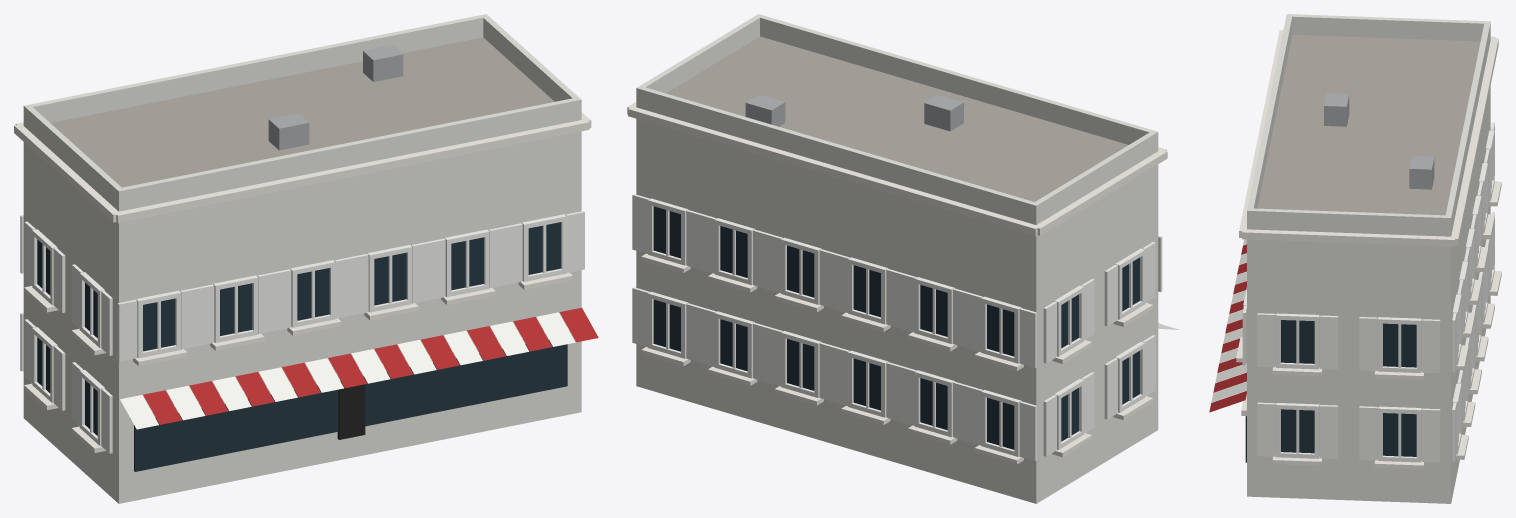
The picture shows the model from 3 angles, left to right: view 1: azimuth 30°, elevation 25°; view 2: azimuth 150°, elevation 25°; view 3: azimuth 270°, elevation 25°; orthographic projection. The views are drawn at different scales.
Parts seen in each view (by area): view 1: b5737; view 2: b5737; view 3: b5737.
Boxes of the visible parts, box(x1,y1,x2,y2) form: b5737: box(14, 14, 598, 503); b5737: box(627, 14, 1179, 503); b5737: box(1209, 14, 1501, 503).
Bounding box in the file's own units: 6626 × 4187 × 3853.
